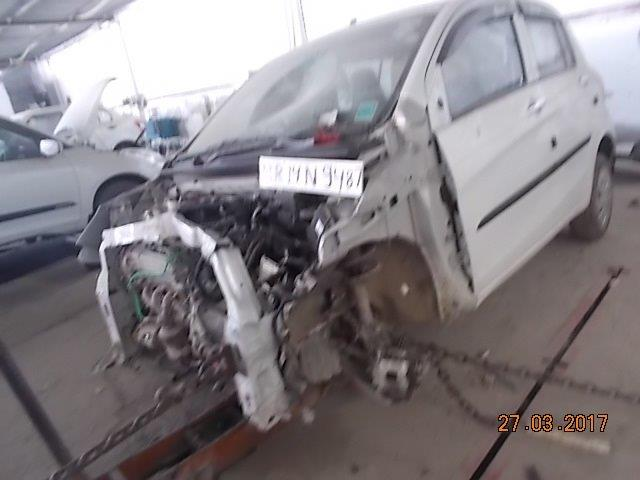Large_tear_or_damage: (98, 154, 466, 426)
